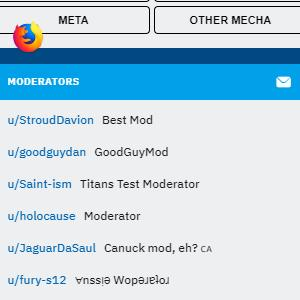firefox: (13, 22, 43, 54)
